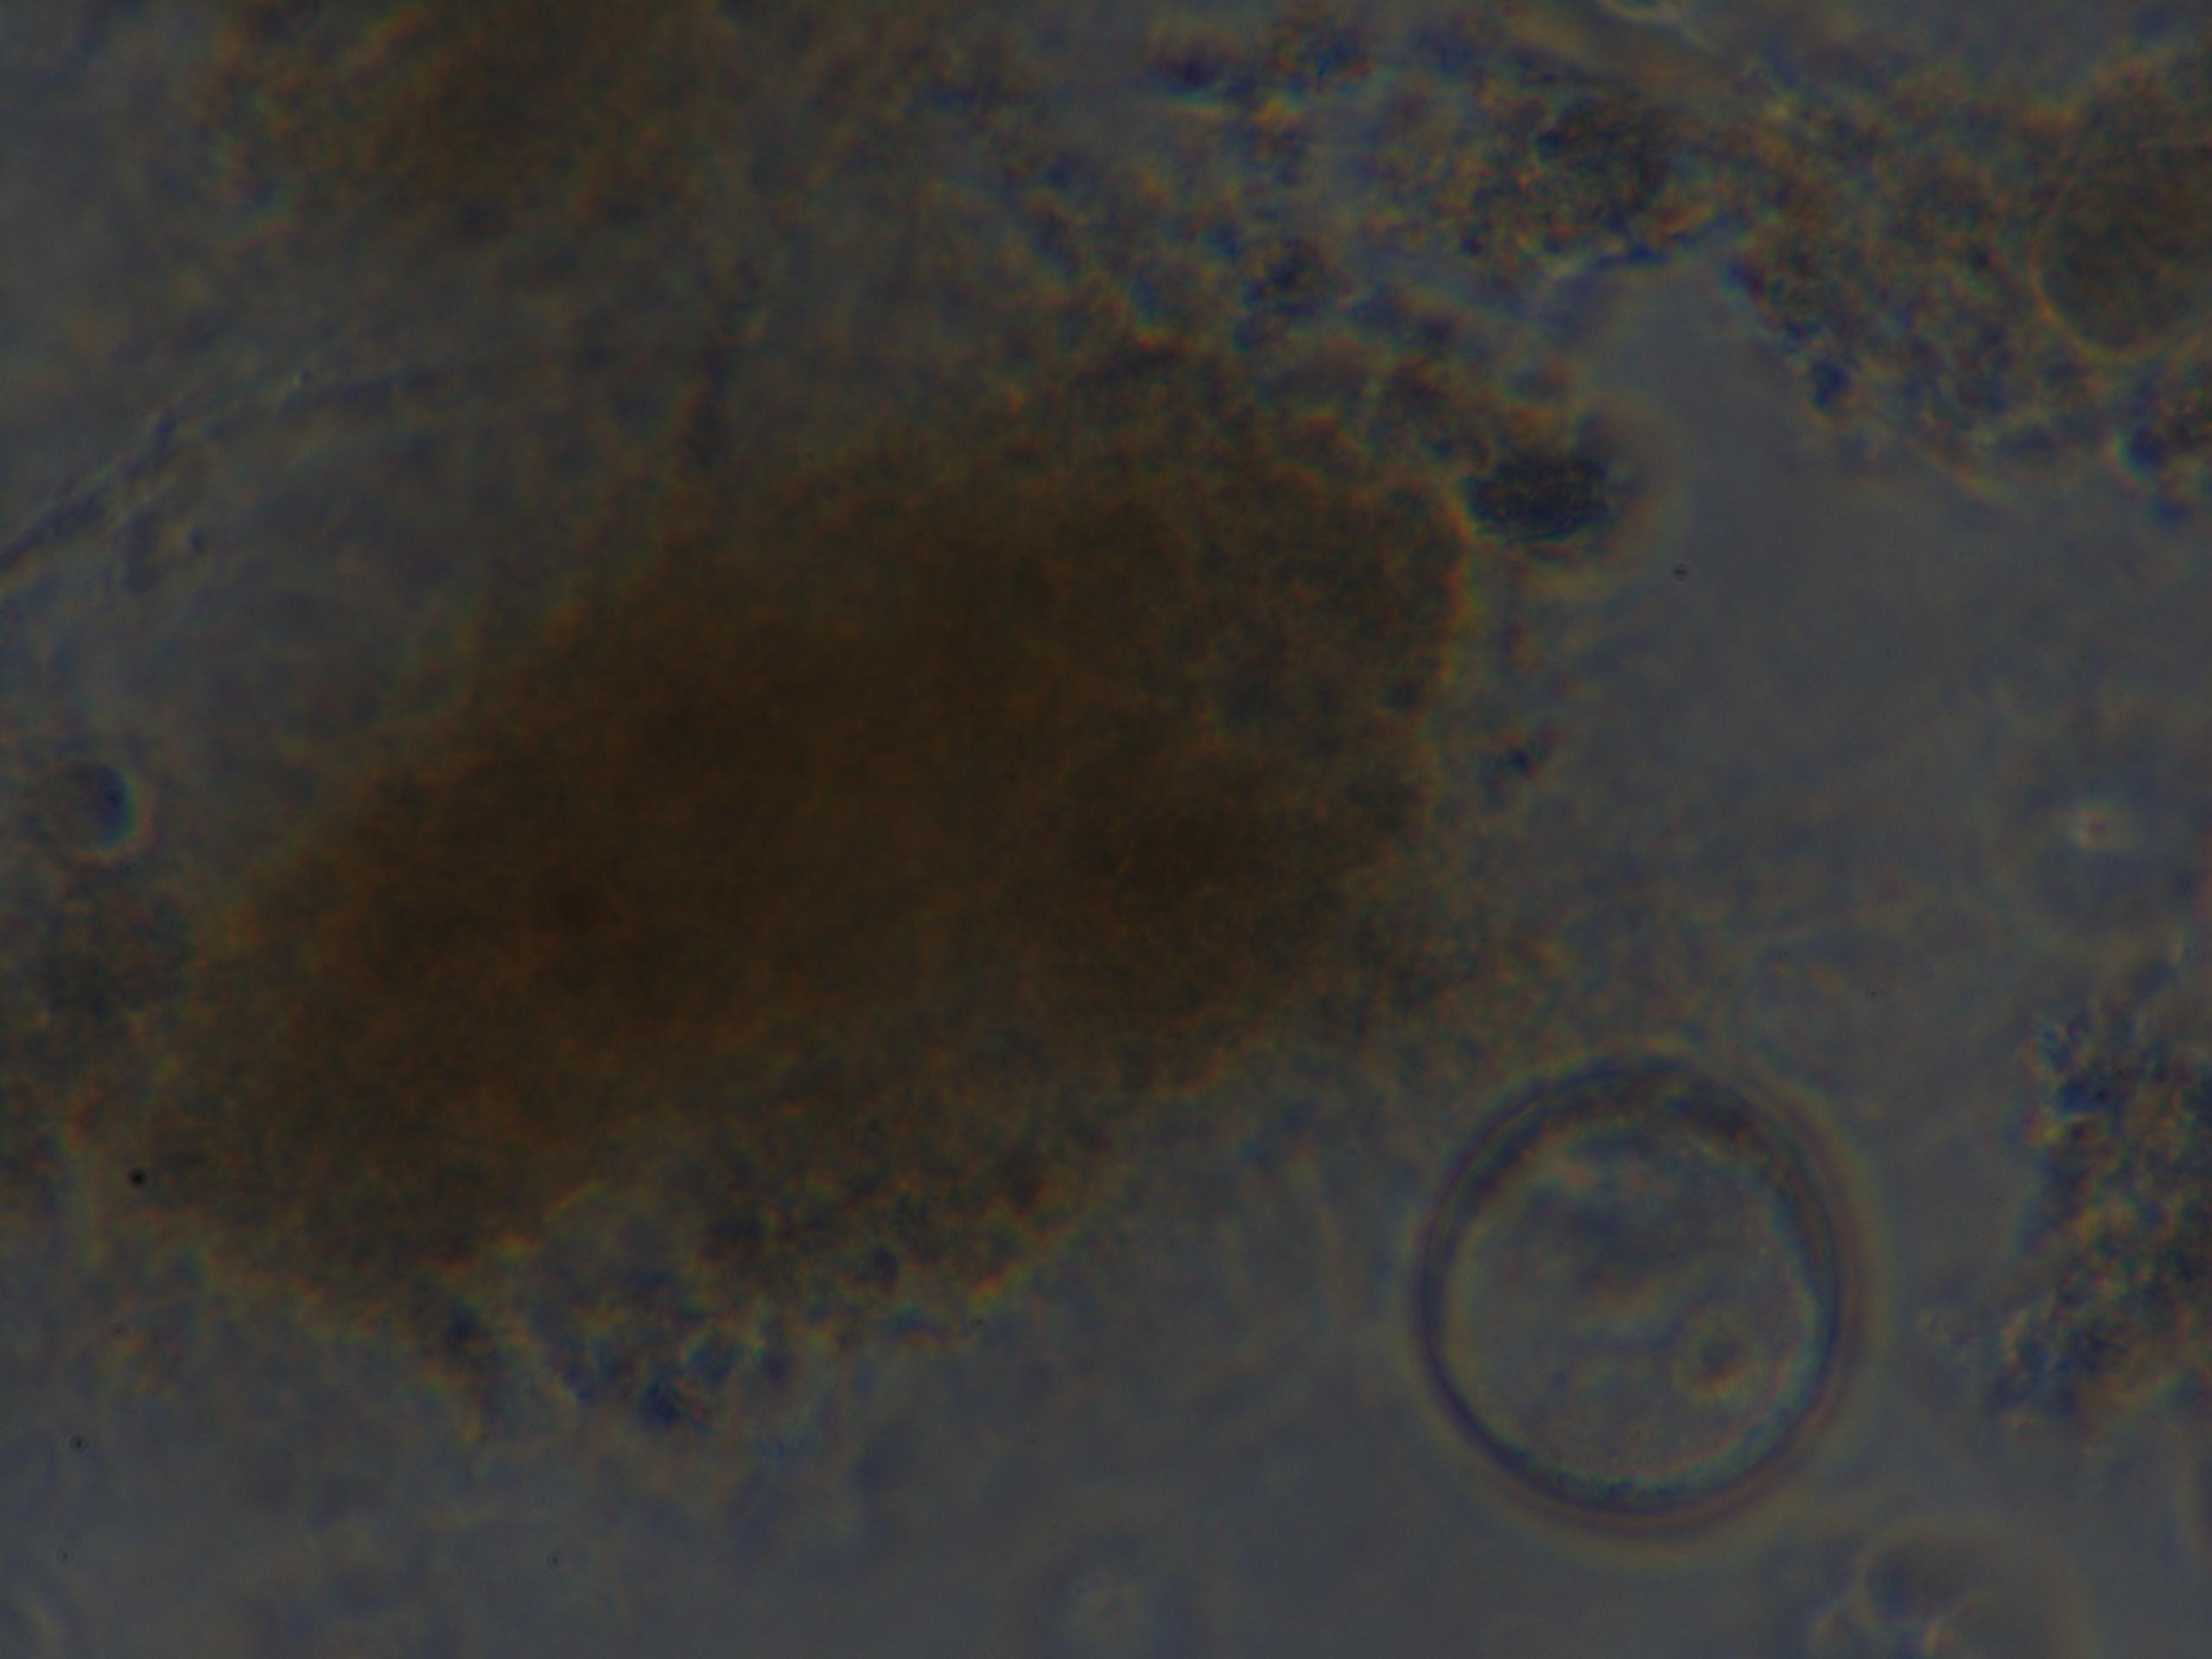spherical_floc: (73, 326, 1482, 1413)
